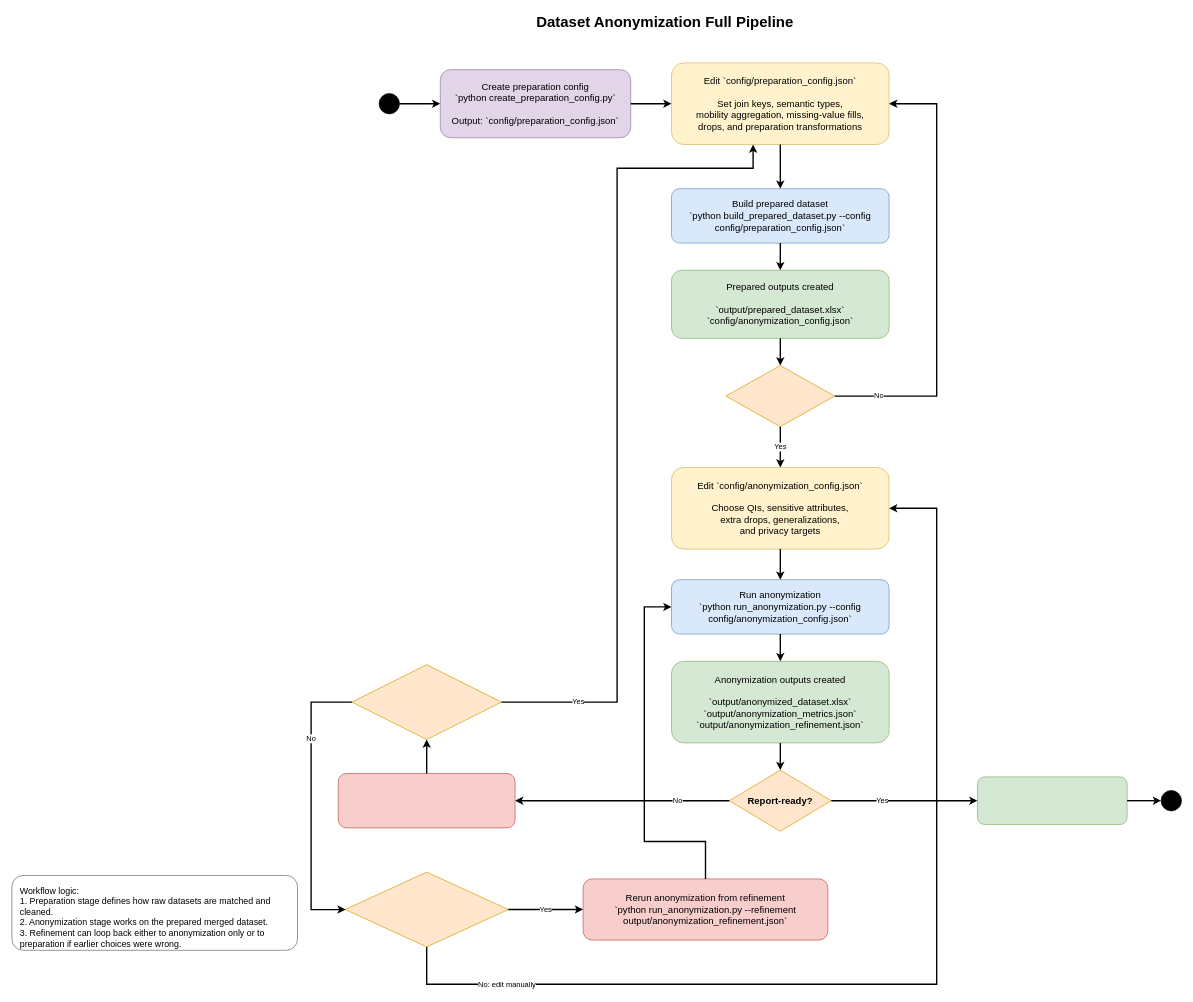
The diagram is 1193 pixels wide and 1002 high, and some of its shapes have lost their labels. Each missing label, with the centre of its shape:
"Need to change preparation stage?" goes at [426,702].
"Preparation OK?" goes at [780,396].
"Review refinement file `output/anonymization_refinement.json`" goes at [426,800].
"Use anonymized dataset for downstream reporting" goes at [1052,800].
"Use refinement file directly?" goes at [426,909].
